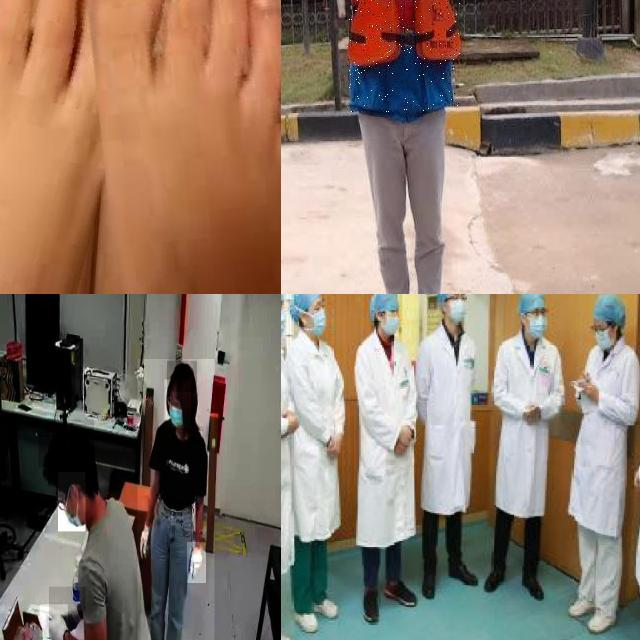Barefoots: (60, 0, 281, 294), (0, 0, 144, 294)
face_mask: (58, 472, 86, 531), (165, 379, 191, 428), (304, 298, 331, 335), (522, 304, 552, 335), (442, 294, 469, 327), (379, 302, 405, 336), (592, 318, 614, 350), (281, 296, 290, 331)
hand_glove: (48, 586, 85, 640), (39, 604, 68, 640), (187, 542, 207, 584), (134, 523, 154, 560)
hand_noglove: (328, 433, 344, 458), (582, 381, 599, 404), (527, 401, 541, 425), (284, 412, 299, 434), (401, 424, 413, 446), (394, 438, 407, 456), (578, 370, 590, 387), (631, 471, 640, 493)
head_nohelmet: (39, 419, 94, 468), (167, 361, 197, 393)
person: (50, 419, 167, 640), (494, 294, 563, 608), (137, 359, 214, 640), (356, 294, 420, 624), (573, 294, 633, 636), (290, 294, 347, 636), (424, 294, 484, 601), (281, 294, 302, 640)
shoes: (355, 582, 388, 624), (583, 603, 620, 640), (445, 558, 481, 596), (380, 576, 420, 610), (518, 566, 550, 604), (308, 589, 344, 622), (291, 604, 324, 639), (481, 559, 507, 595), (420, 561, 440, 607), (570, 586, 593, 620), (281, 622, 299, 640)
vest: (347, 0, 460, 112)
